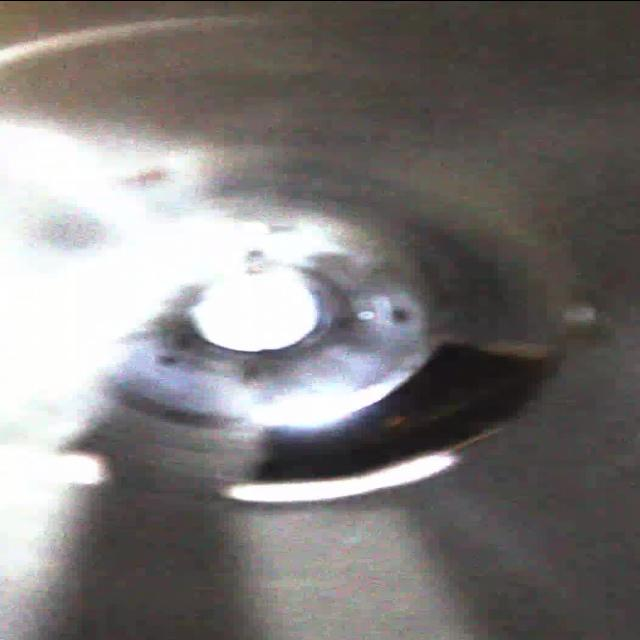hole: (213, 329, 578, 503)
